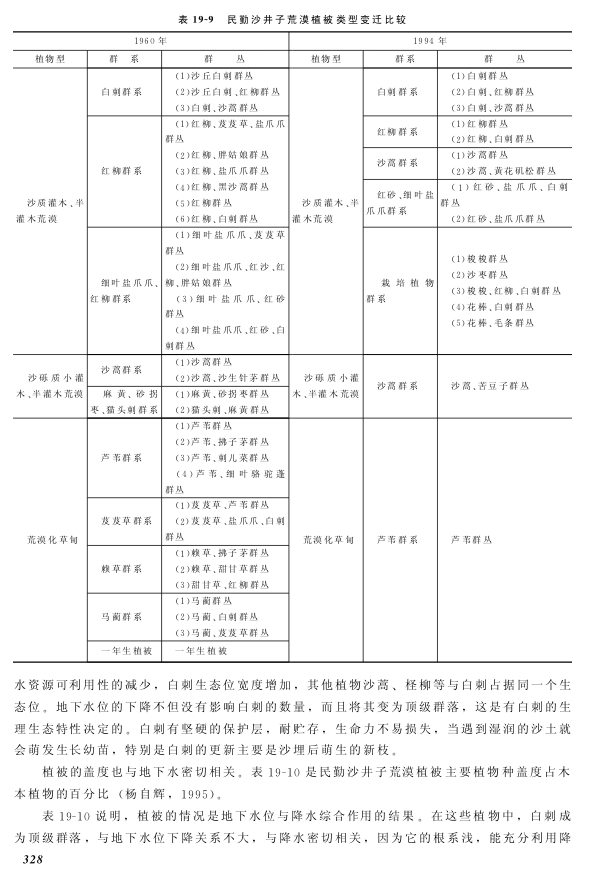table: (13, 31, 572, 663)
